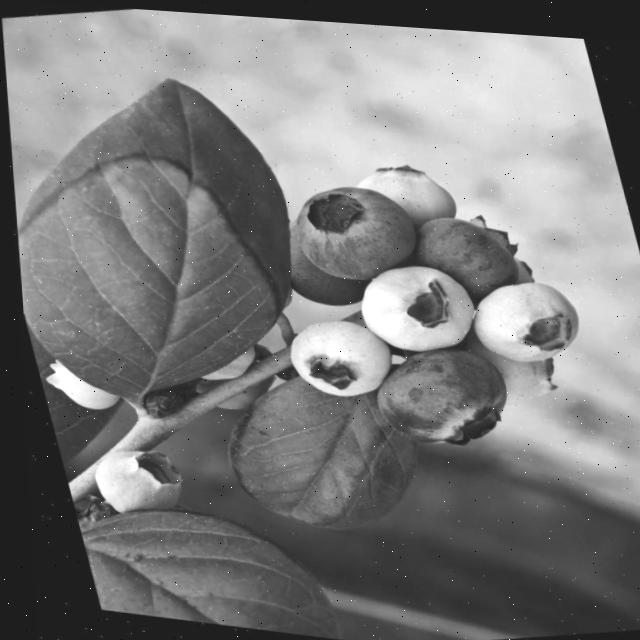RipeBlueBerry: (353, 325, 519, 463), (280, 166, 431, 298)
UnripeBlueBerry: (342, 243, 486, 368), (458, 259, 587, 374), (273, 303, 398, 411)
